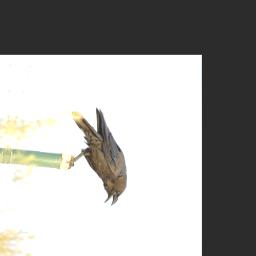Crow: (57, 103, 142, 209)
